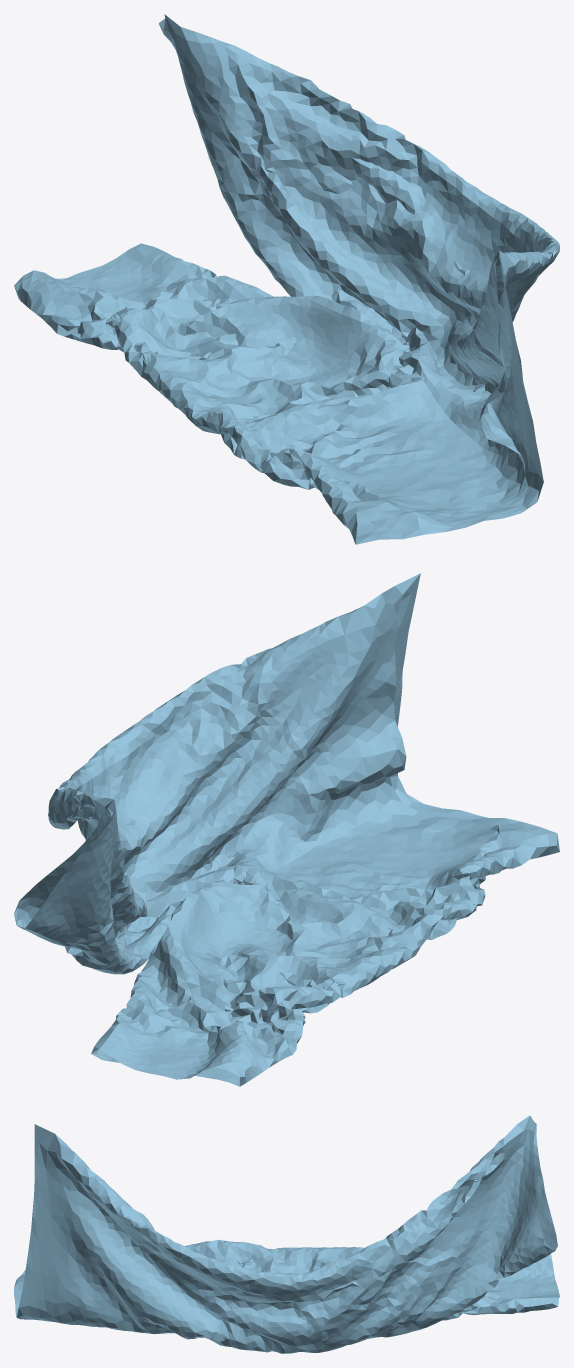
Rendered from frame_13.glb.
3 views of the same model, one above another, from view 1: azimuth 30°, elevation 25°; view 2: azimuth 150°, elevation 25°; view 3: azimuth 270°, elevation 25° (orthographic). The views are drawn at different scales.
Visible parts, largest first — view 1: frame_13.obj; view 2: frame_13.obj; view 3: frame_13.obj.
Part boxes in pixels (bbox=[...]): frame_13.obj: bbox=[14, 14, 559, 544]; frame_13.obj: bbox=[14, 573, 559, 1086]; frame_13.obj: bbox=[14, 1115, 559, 1353].
Size of the model in its own units: 0.941 by 0.7001 by 1.74.
